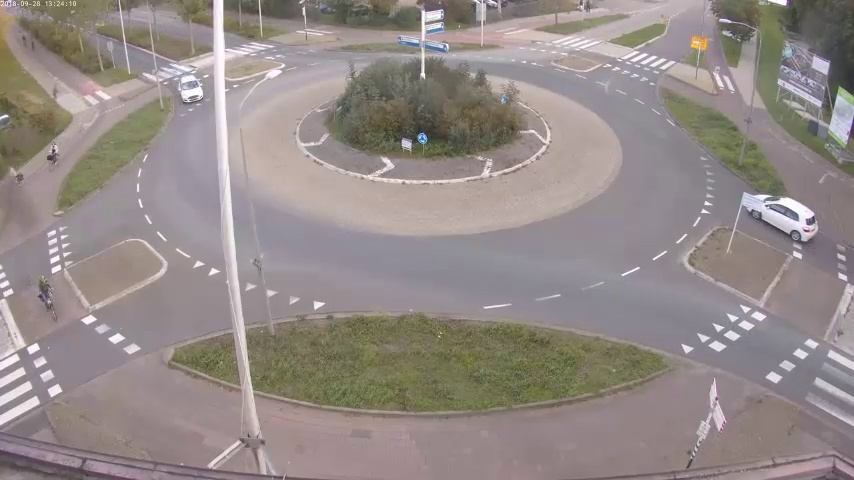bicycle: (31, 273, 61, 318), (44, 139, 61, 170)
car: (740, 191, 819, 247), (178, 72, 204, 107)
